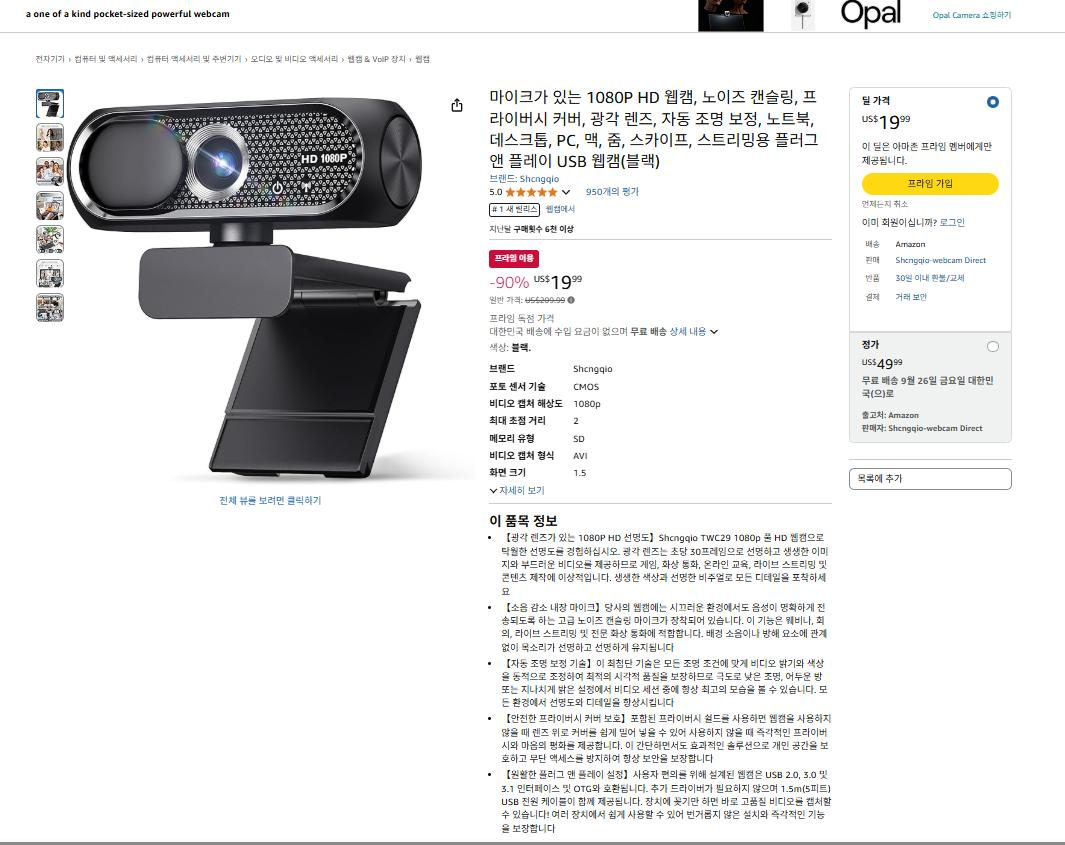button: (859, 172, 999, 197)
popup: (2, 2, 1064, 33), (849, 466, 1011, 491)
